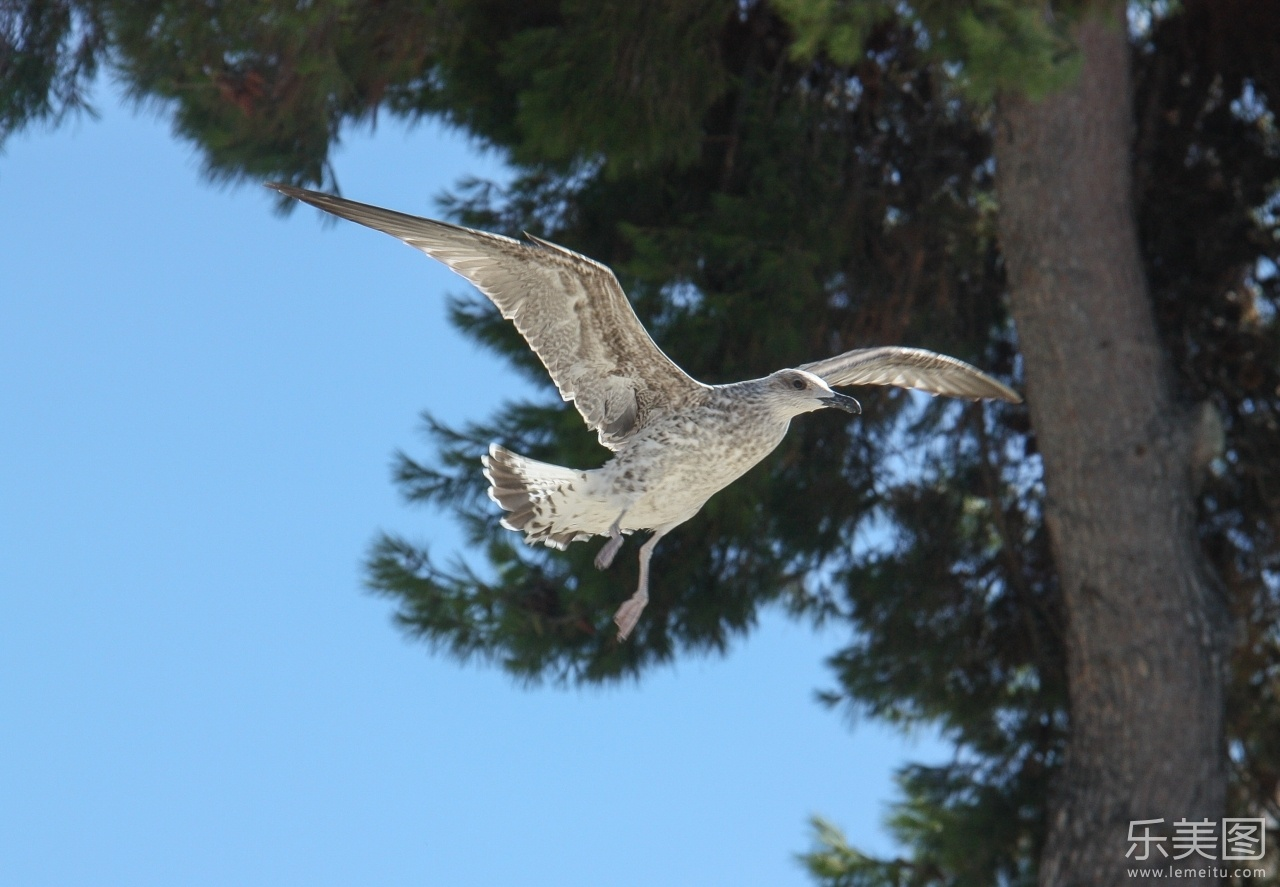bird: (276, 175, 1021, 632)
